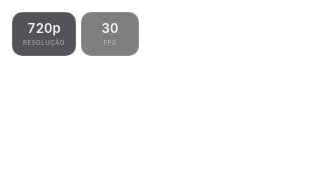
Test: qualidade na prévia › alterna as quatro resoluções com um toque e mantém a etiqueta na saída confirmada
Later steps or results of the test are not shown.
Click the button "720p RESOLUÇÃO" at [44, 34], box [12,12,76,56]
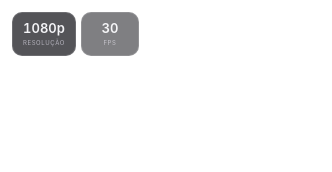
Expected: the button "1080p RESOLUÇÃO" is shown
Click the button "1080p RESOLUÇÃO" at [44, 34], box [12,12,76,56]
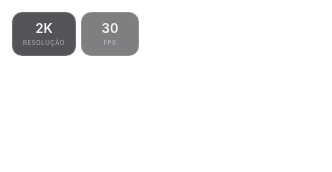
Expected: the button "2K RESOLUÇÃO" is shown
Click the button "2K RESOLUÇÃO" at [44, 34], box [12,12,76,56]
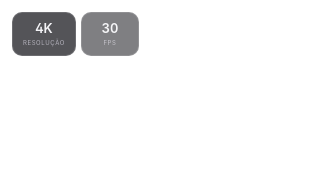
Expected: the button "4K RESOLUÇÃO" is shown
Click the button "4K RESOLUÇÃO" at [44, 34], box [12,12,76,56]
Expected: the button "4K RESOLUÇÃO" is shown, [12,12,76,56]
